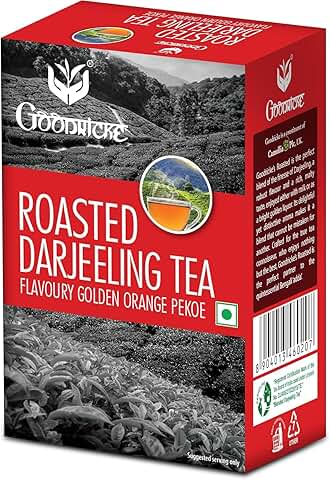Tea: (2, 3, 330, 480)
